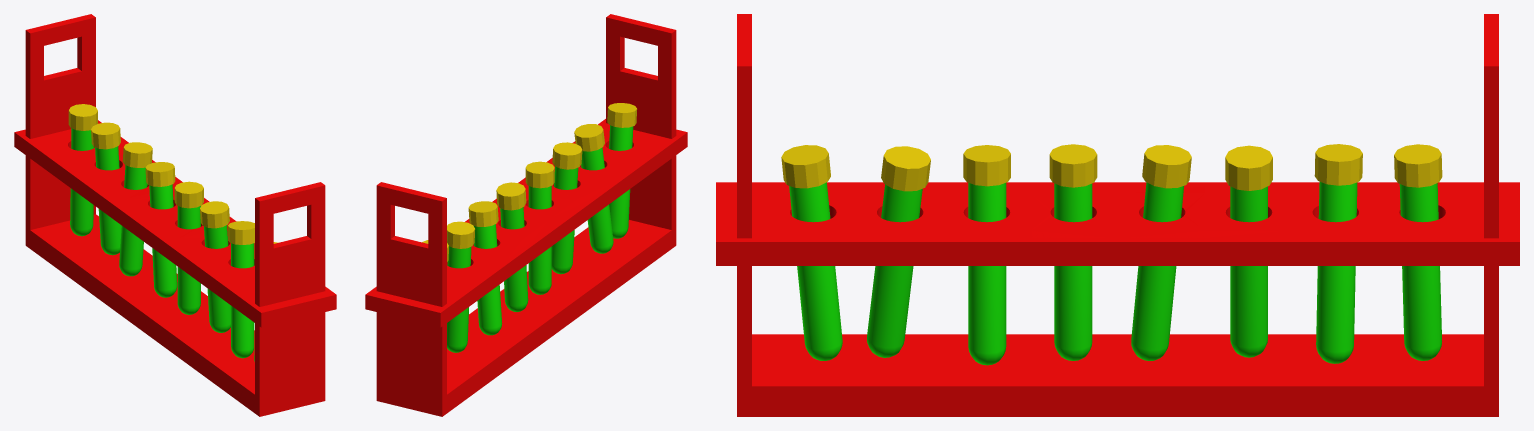
Rendered from LabProp00.fbx.
The picture shows the model from 3 angles, left to right: view 1: azimuth 30°, elevation 25°; view 2: azimuth 150°, elevation 25°; view 3: azimuth 270°, elevation 25°; orthographic projection. The views are drawn at different scales.
Parts seen in each view (by area): view 1: LabProp00; view 2: LabProp00; view 3: LabProp00.
Boxes of the visible parts, box(x1,y1,x2,y2) form: LabProp00: box(14, 14, 336, 416); LabProp00: box(365, 14, 687, 416); LabProp00: box(716, 14, 1519, 416).
Size of the model in its own units: 12.85 by 35.18 by 73.06.
